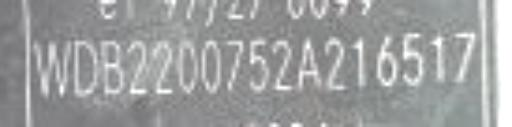letter: (22, 33, 74, 100), (448, 25, 482, 88), (198, 37, 228, 100), (396, 29, 428, 88), (70, 37, 100, 96), (374, 29, 402, 92), (322, 33, 350, 96), (98, 37, 126, 100), (296, 37, 324, 100), (269, 33, 295, 96), (150, 41, 178, 96), (426, 29, 452, 88), (347, 33, 373, 92), (127, 33, 149, 100), (246, 37, 272, 92), (175, 41, 201, 96), (224, 33, 246, 96)
